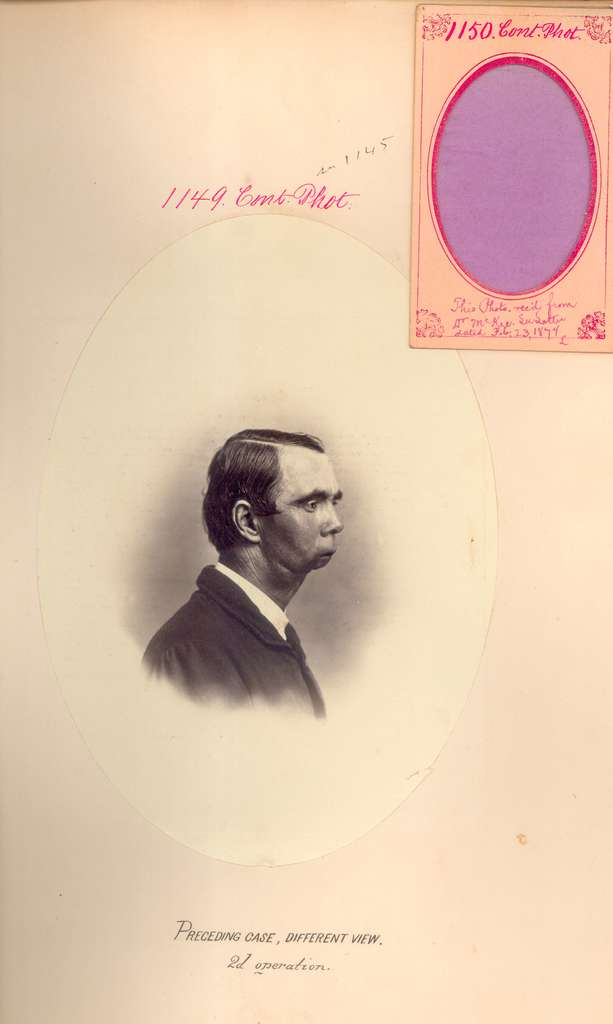Human-face: (257, 445, 346, 579)
